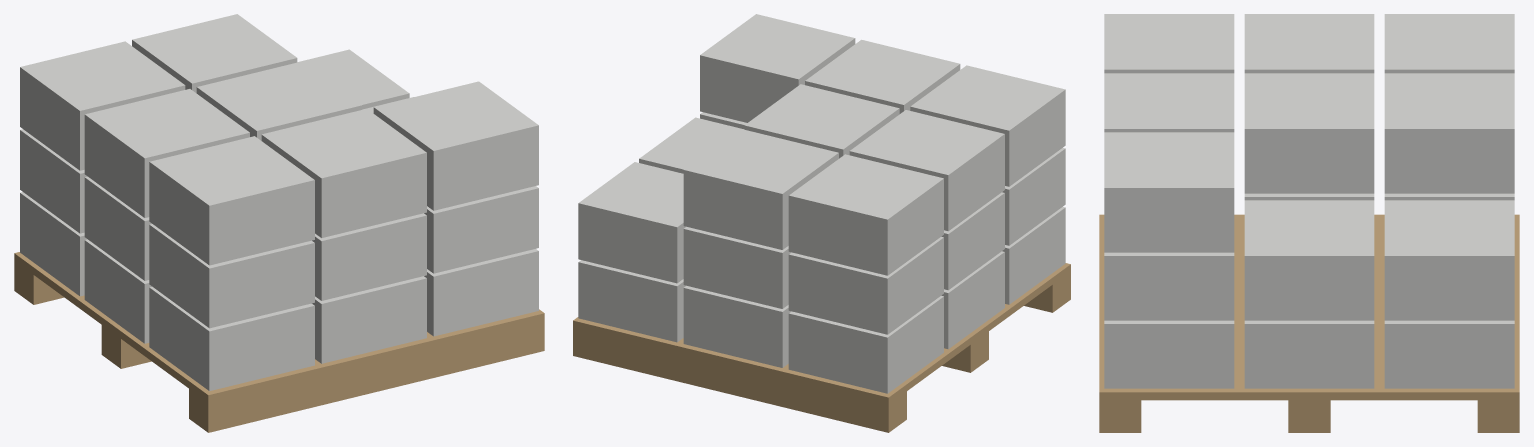
The model's file is pallet_mp_25.glb.
The picture shows the model from 3 angles, left to right: view 1: azimuth 30°, elevation 25°; view 2: azimuth 150°, elevation 25°; view 3: azimuth 270°, elevation 25°; orthographic projection. The views are drawn at different scales.
Visible parts, largest first — view 1: PalletMP; view 2: PalletMP; view 3: PalletMP.
Boxes of the visible parts, x1,y1,x2,y2 form: PalletMP: [14, 14, 544, 432]; PalletMP: [573, 14, 1070, 432]; PalletMP: [1099, 14, 1519, 432].
Bounding box in the file's own units: 1 × 0.6386 × 1.
